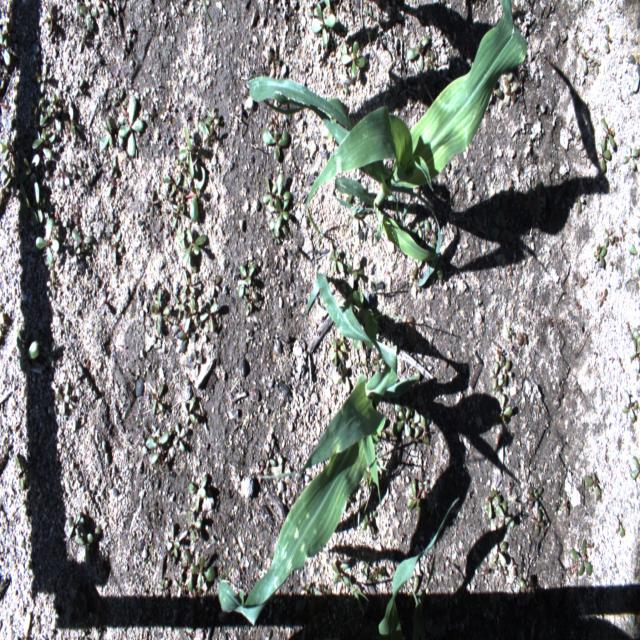crop: (245, 0, 527, 287), (217, 273, 420, 625), (349, 496, 459, 640)
weed: (336, 289, 378, 352), (111, 83, 145, 159), (177, 162, 206, 222), (362, 8, 395, 60), (16, 326, 42, 378), (177, 124, 202, 178), (35, 217, 60, 269), (259, 122, 290, 161), (339, 38, 367, 80), (310, 4, 336, 49), (181, 225, 208, 267), (148, 287, 170, 338), (566, 537, 593, 576), (238, 261, 258, 313), (186, 471, 208, 515), (145, 430, 171, 466), (171, 318, 197, 354), (190, 554, 215, 591), (75, 516, 93, 567), (391, 399, 414, 438), (406, 479, 428, 519), (306, 202, 326, 245), (272, 189, 292, 231), (406, 35, 430, 70), (198, 298, 219, 334), (332, 358, 353, 393), (62, 112, 82, 148), (260, 172, 279, 208), (324, 0, 343, 36), (76, 0, 98, 31), (34, 127, 53, 162), (98, 113, 115, 152), (331, 558, 351, 590), (31, 126, 57, 150), (494, 504, 516, 532), (621, 389, 639, 423), (182, 297, 198, 335), (427, 241, 443, 279), (105, 156, 120, 196), (592, 142, 612, 172), (182, 153, 198, 190), (15, 452, 30, 491), (182, 548, 195, 593), (496, 394, 514, 426), (600, 117, 616, 153), (167, 522, 181, 561), (346, 250, 359, 292), (181, 394, 197, 428), (203, 104, 220, 136), (584, 470, 602, 500), (360, 506, 378, 536), (54, 158, 70, 190), (173, 290, 189, 322), (55, 381, 70, 415), (165, 167, 182, 197), (46, 267, 61, 300), (489, 359, 504, 392), (172, 421, 186, 456), (188, 510, 202, 545), (21, 152, 40, 177), (198, 119, 216, 145), (37, 97, 52, 128), (328, 246, 344, 275), (72, 230, 94, 251), (50, 94, 61, 136), (579, 43, 593, 76), (0, 137, 17, 164), (622, 144, 639, 171), (419, 411, 432, 445), (0, 27, 11, 67), (181, 267, 196, 296), (593, 242, 608, 271), (202, 0, 216, 31), (328, 337, 342, 368), (409, 214, 426, 239), (33, 181, 43, 223), (268, 218, 288, 239), (407, 410, 421, 440), (42, 0, 53, 38), (492, 541, 508, 567), (518, 575, 536, 598), (152, 386, 166, 415), (530, 508, 544, 537), (190, 347, 203, 378), (345, 173, 358, 204), (407, 575, 423, 600), (314, 583, 332, 605), (68, 158, 85, 181), (171, 573, 186, 599), (339, 261, 365, 276), (504, 82, 519, 108), (483, 496, 507, 512), (66, 513, 81, 538), (353, 208, 368, 233), (262, 446, 277, 471), (0, 164, 11, 198), (528, 487, 542, 513), (359, 554, 373, 580), (335, 32, 347, 62), (422, 217, 437, 241), (486, 490, 498, 520), (630, 338, 640, 374), (154, 578, 170, 600), (147, 190, 159, 218), (488, 80, 502, 104), (371, 348, 384, 373), (171, 202, 183, 229), (376, 414, 387, 443), (74, 29, 86, 54), (176, 227, 187, 254), (371, 312, 404, 321), (114, 116, 123, 148), (614, 514, 626, 538), (369, 278, 385, 296), (527, 177, 540, 199), (210, 273, 221, 298), (72, 78, 84, 100), (574, 191, 586, 213), (502, 358, 511, 387), (86, 525, 102, 541), (276, 174, 284, 206), (36, 70, 46, 95), (630, 455, 640, 480), (426, 50, 436, 74), (412, 255, 424, 275), (604, 23, 612, 53), (632, 64, 640, 94), (628, 220, 640, 240), (338, 324, 346, 353), (498, 354, 505, 387), (598, 285, 609, 306), (628, 242, 640, 261), (412, 268, 421, 293), (591, 56, 602, 76), (335, 80, 349, 95), (83, 67, 94, 86), (562, 491, 570, 517), (68, 106, 75, 134), (373, 565, 386, 580), (584, 540, 596, 556), (342, 247, 352, 266), (503, 73, 513, 92), (604, 227, 614, 246), (504, 479, 515, 496), (630, 607, 638, 630), (96, 0, 110, 13), (21, 494, 29, 516), (628, 54, 639, 70), (632, 326, 640, 348), (307, 582, 318, 598), (82, 16, 94, 30), (409, 435, 420, 450), (73, 243, 81, 262), (368, 560, 376, 579), (504, 325, 514, 340), (518, 331, 528, 346), (42, 53, 48, 75), (73, 0, 79, 21), (300, 582, 309, 596), (109, 0, 117, 15), (54, 10, 61, 27), (633, 558, 638, 580), (426, 48, 430, 73), (46, 290, 53, 302), (474, 297, 482, 307), (637, 264, 639, 278)
